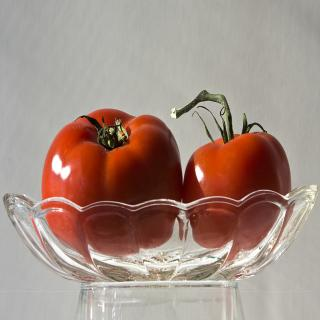tomato: (39, 105, 182, 260), (170, 88, 291, 266)
